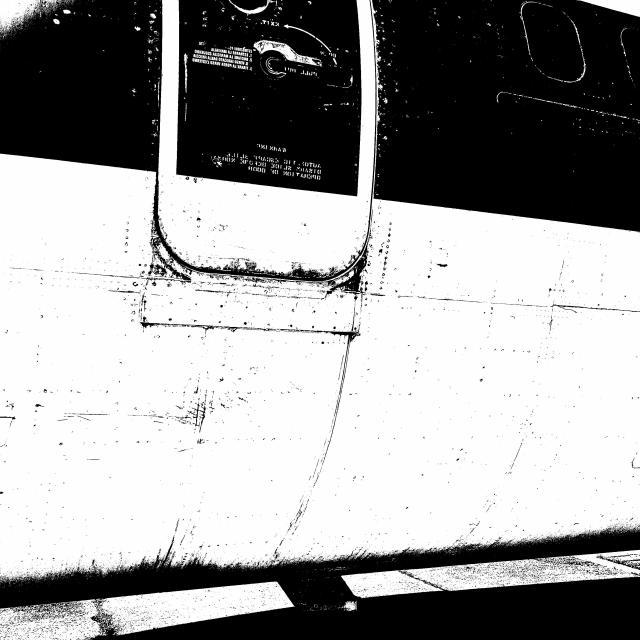crack: (558, 304, 582, 324)
